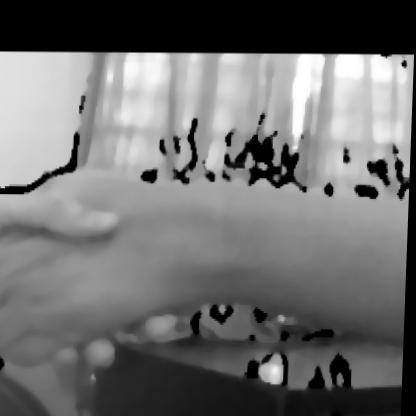handshake: (0, 145, 410, 405)
